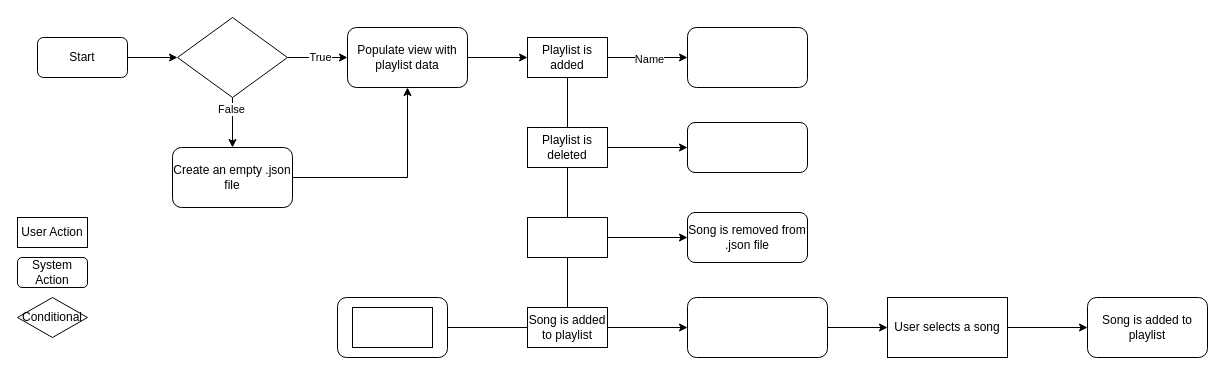
Some shapes in this 1225 by 375 pixel diagram are drawn without their labels. The box of each missing label's shape, as (x1, y1, x2, y2) in pixels:
Empty playlist is added by name to the .json file: (686, 26, 808, 88)
Exit: (352, 306, 432, 348)
If file exists: (176, 16, 288, 98)
Playlist data removed from .json file: (686, 122, 808, 172)
Search query sent to APIs, songs from response shown to user: (686, 296, 828, 358)
Song is deleted from playlist: (526, 216, 608, 258)
